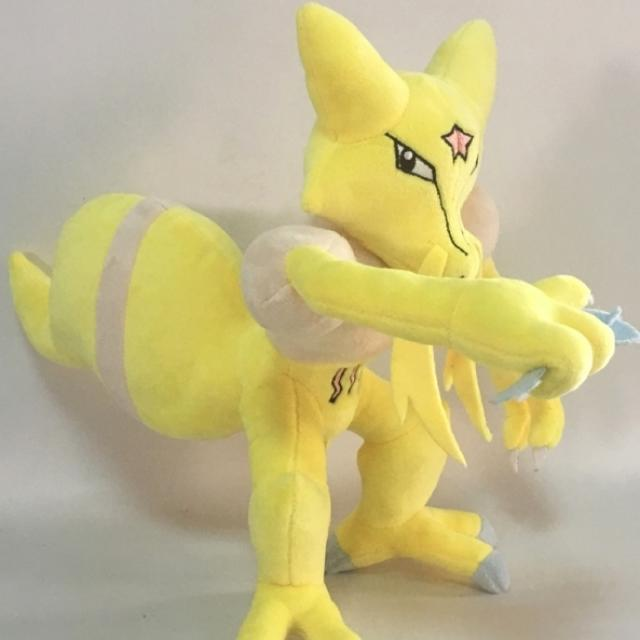Kadabra: (211, 4, 565, 640)
